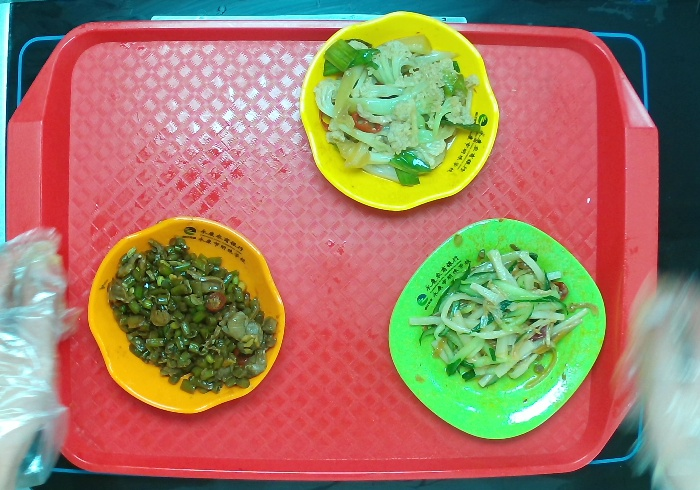YKMZ-Huang_Se_Ao_Bian_Wan: (297, 9, 501, 212)
YKMZ-Ju_Se_Ao_Bian_Wan: (85, 216, 286, 418)
YKMZ-Lv_Se_Fang_Die: (387, 217, 608, 441)
